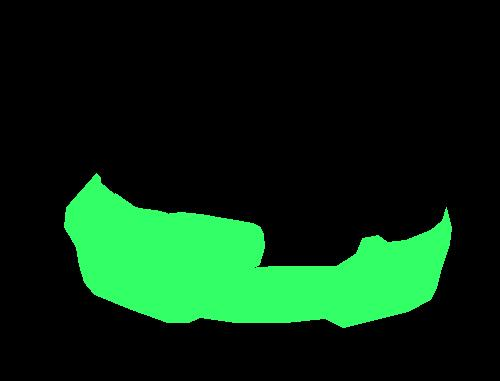Broken part: (64, 173, 451, 327), (162, 212, 264, 268), (84, 181, 152, 239), (115, 193, 171, 249)
Dent: (65, 215, 88, 259)
